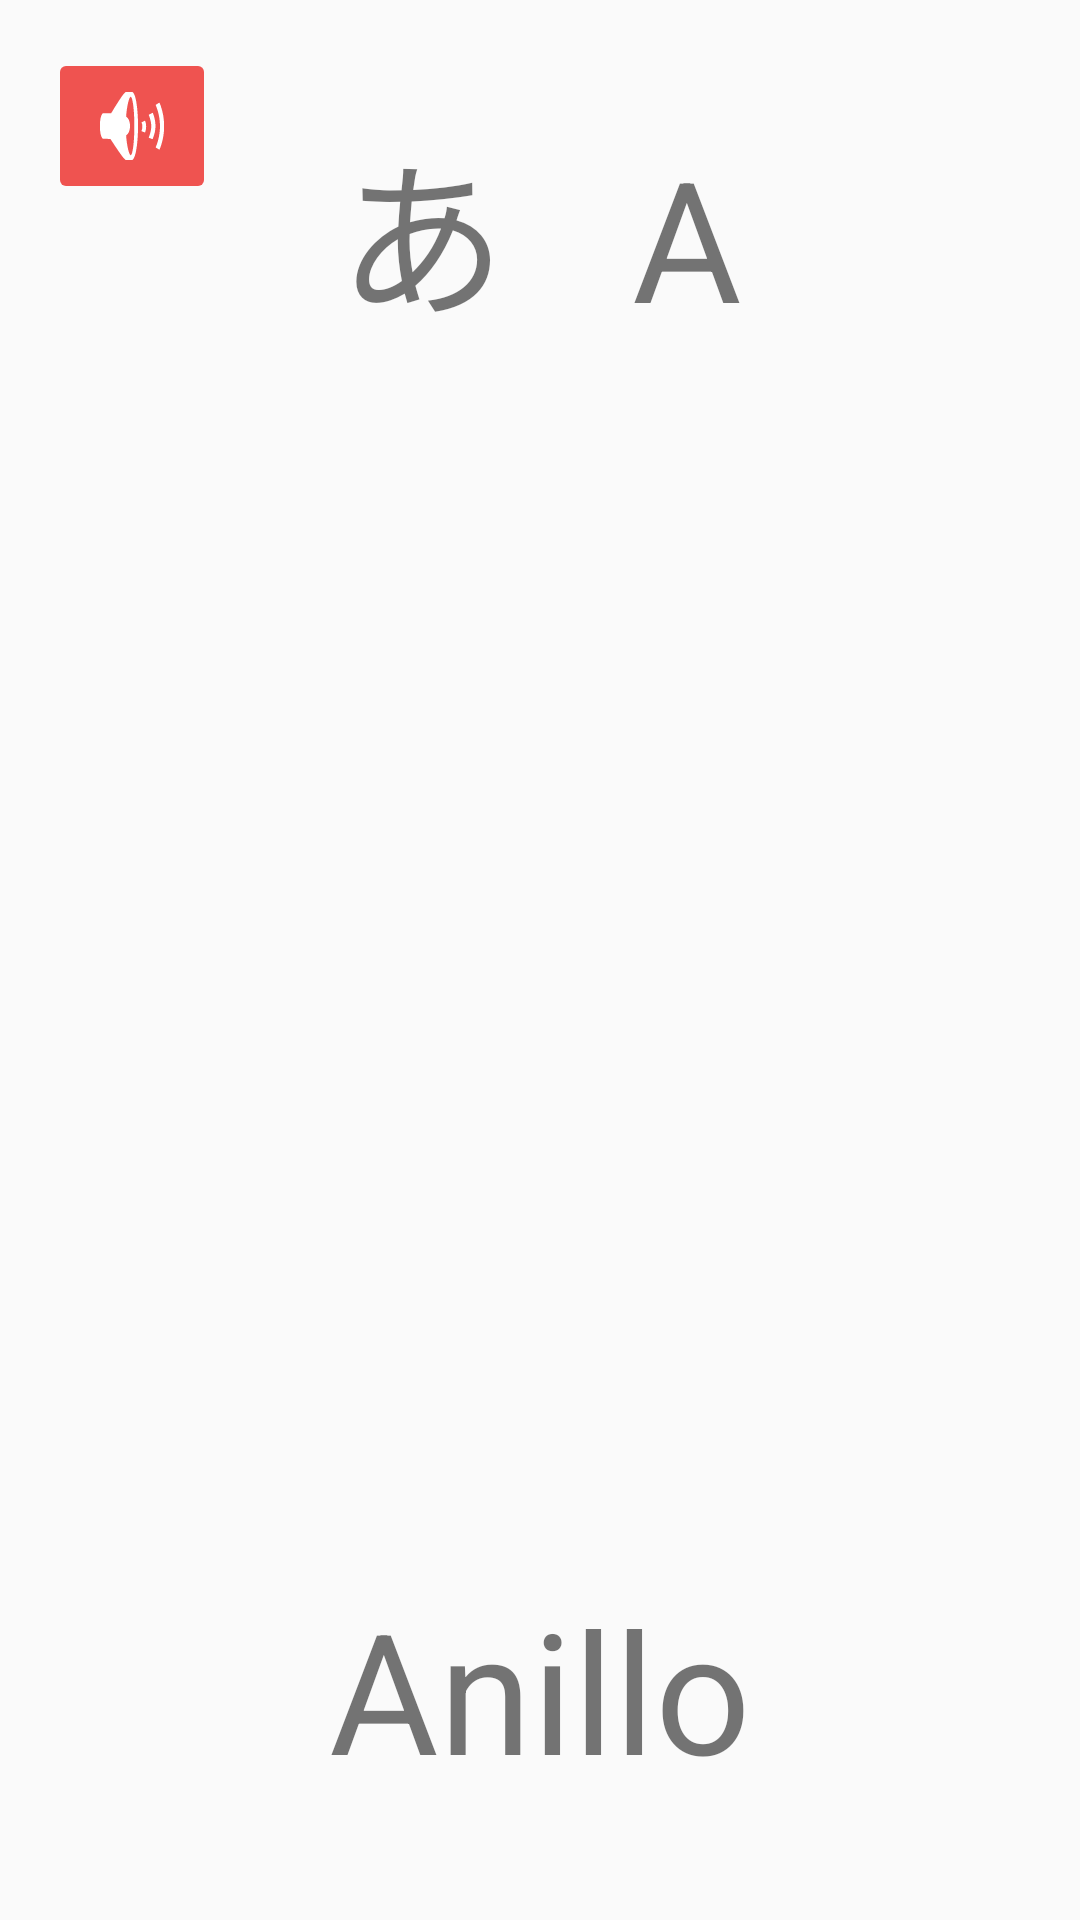

Where to tap for icons on this 1080*1920 app screen, as (x,y):
lock silent mode off: (132,126)
